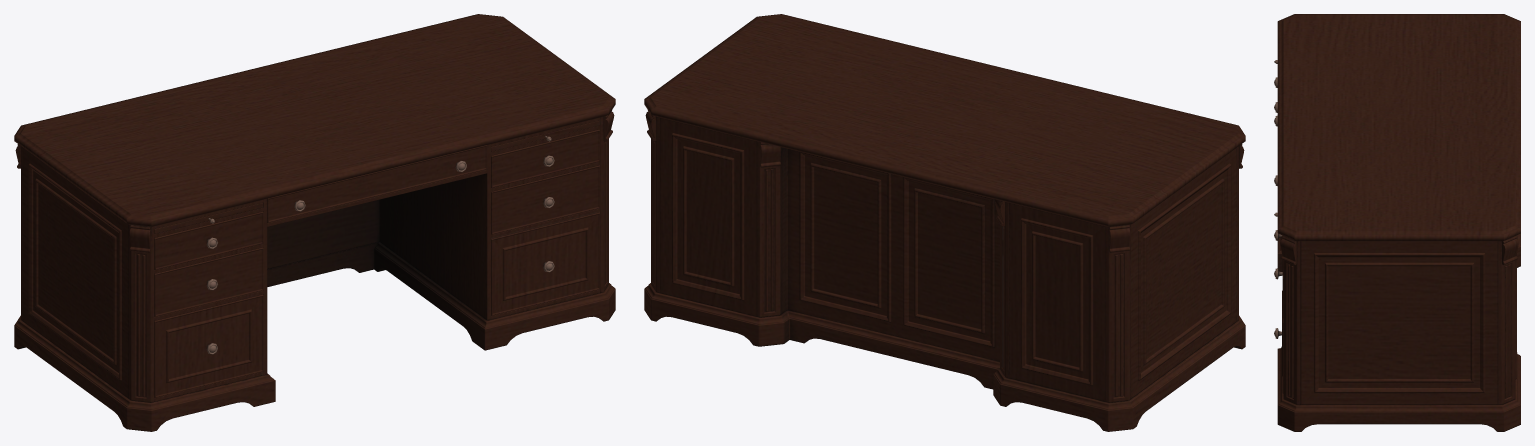
Rendered from escritorio2.obj.
The picture shows the model from 3 angles, left to right: view 1: azimuth 30°, elevation 25°; view 2: azimuth 150°, elevation 25°; view 3: azimuth 270°, elevation 25°; orthographic projection. The views are drawn at different scales.
Parts seen in each view (by area): view 1: 10240_Office_Desk_v3_max2011; view 2: 10240_Office_Desk_v3_max2011; view 3: 10240_Office_Desk_v3_max2011.
Part boxes in pixels (x1,y1,x2,y2): 10240_Office_Desk_v3_max2011: (14, 14, 615, 431); 10240_Office_Desk_v3_max2011: (644, 14, 1245, 431); 10240_Office_Desk_v3_max2011: (1274, 14, 1520, 431).
Bounding box in the file's own units: 185 × 77 × 87.
Materials: 1 (1 with a texture image).
